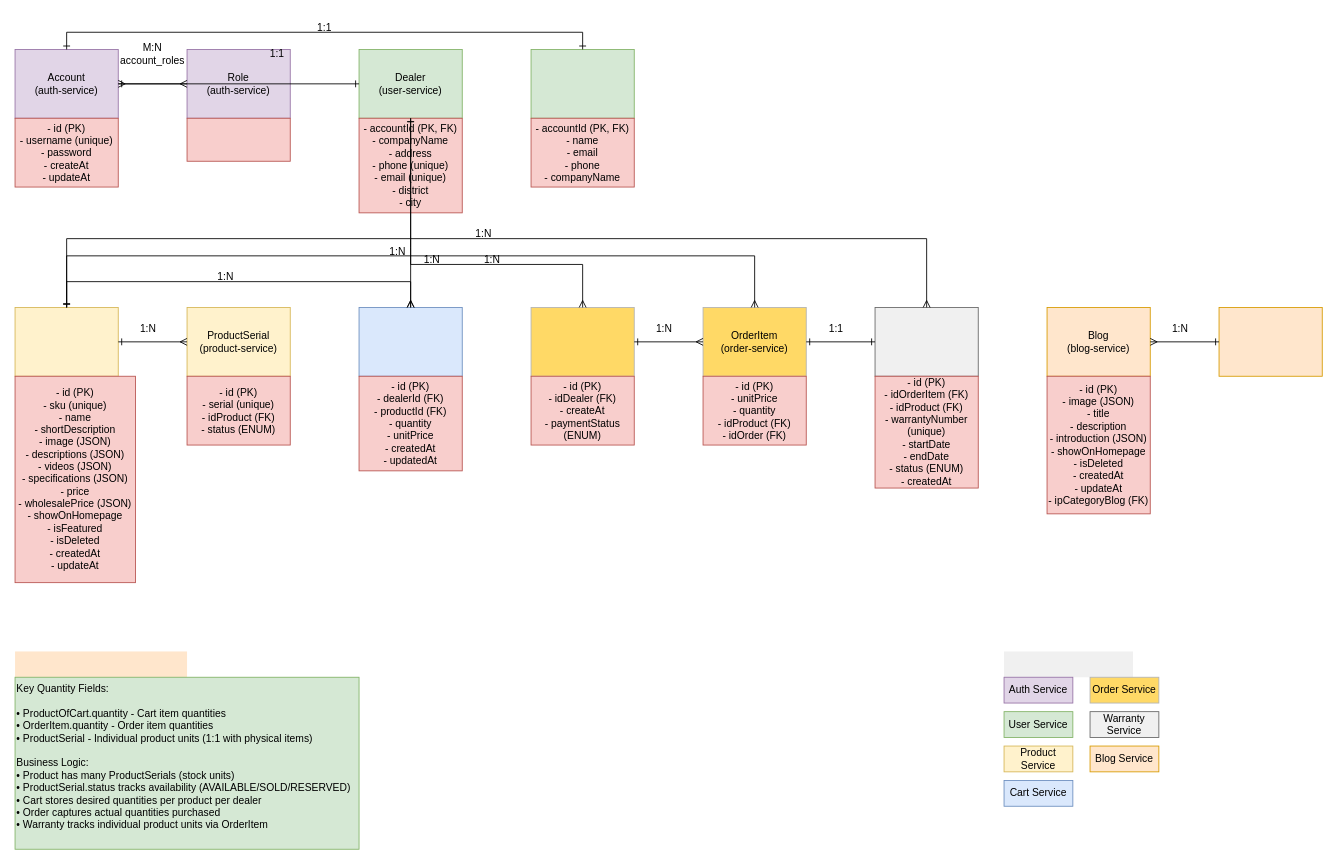
Image size: 1337x864. Some labels were removed from this diagram. Each missing label, with the centre of its shape:
"- id (PK) - name (unique)" goes at (x=238, y=139).
"Admin (user-service)" goes at (x=582, y=83).
"CategoryBlog (blog-service)" goes at (x=1270, y=341).
"Order (order-service)" goes at (x=582, y=341).
"Product (product-service)" goes at (x=66, y=341).
"ProductOfCart (cart-service)" goes at (x=410, y=341).
"QUANTITY RELATIONSHIPS" goes at (x=101, y=664).
"SERVICE LEGEND" goes at (x=1068, y=664).
"Warranty (warranty-service)" goes at (x=926, y=341).
